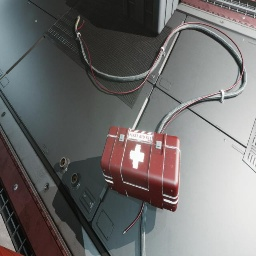FirstAidBox ,: (100, 126, 180, 212)
